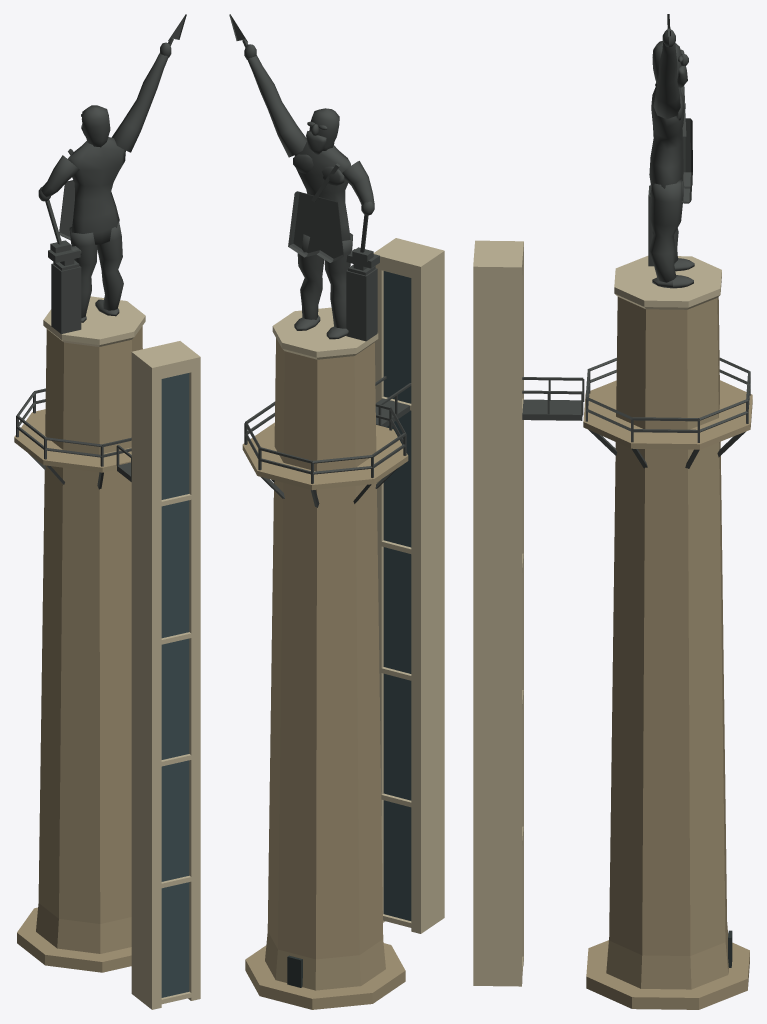
Rendered from vulcan-statue-far.glb.
3 renders of one model, left to right at view 1: azimuth 30°, elevation 25°; view 2: azimuth 150°, elevation 25°; view 3: azimuth 270°, elevation 25°, orthographic. The views are drawn at different scales.
Visible parts, largest first — view 1: vulcan-statue-0-stone, vulcan-statue-0-trim, vulcan-statue-0-glass, vulcan-statue-0-iron; view 2: vulcan-statue-0-stone, vulcan-statue-0-trim, vulcan-statue-0-iron, vulcan-statue-0-glass; view 3: vulcan-statue-0-stone, vulcan-statue-0-trim, vulcan-statue-0-iron.
Boxes of the visible parts, x1,y1,x2,y2 form: vulcan-statue-0-stone: (14,326,142,972); vulcan-statue-0-trim: (43,296,200,1009); vulcan-statue-0-glass: (161,373,189,997); vulcan-statue-0-iron: (16,14,186,489); vulcan-statue-0-stone: (242,338,408,1009); vulcan-statue-0-trim: (272,238,444,933); vulcan-statue-0-iron: (229,14,411,507); vulcan-statue-0-glass: (383,271,411,920); vulcan-statue-0-stone: (583,297,752,1009); vulcan-statue-0-trim: (473,240,721,986); vulcan-statue-0-iron: (522,14,750,468).
Size of the model in its own units: 10.01 by 54.86 by 13.74.
